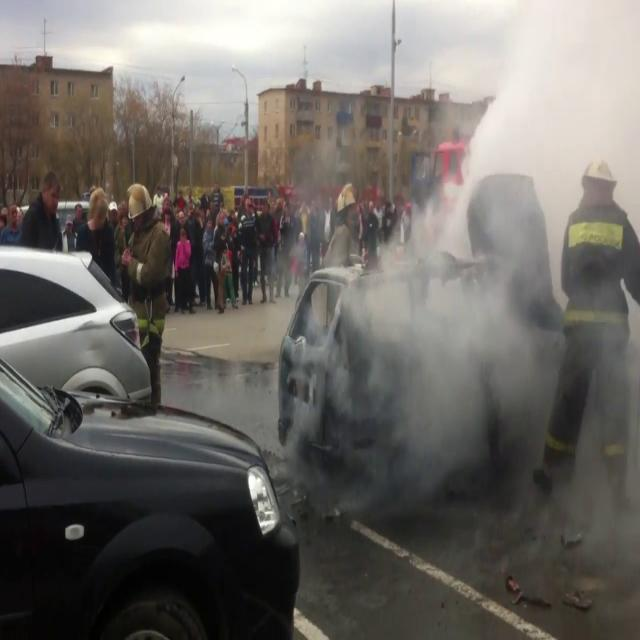Smoke: (280, 1, 640, 513)
